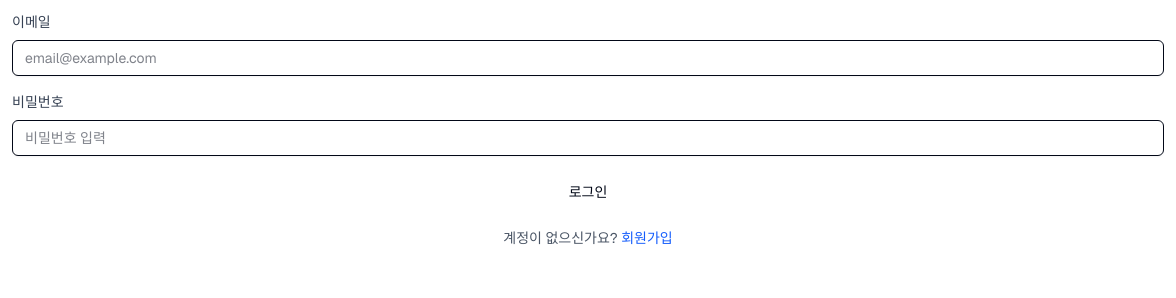
it: LoginForm › SPEC-AUTH-002 TAG-6: Rate Limit 에러 처리 › 429 응답 시 Rate Limit 에러 메시지를 표시한다
The image size is (1176, 298).
In the field labelled "이메일": (588, 58) [12,40,1164,76], type "test@example.com"
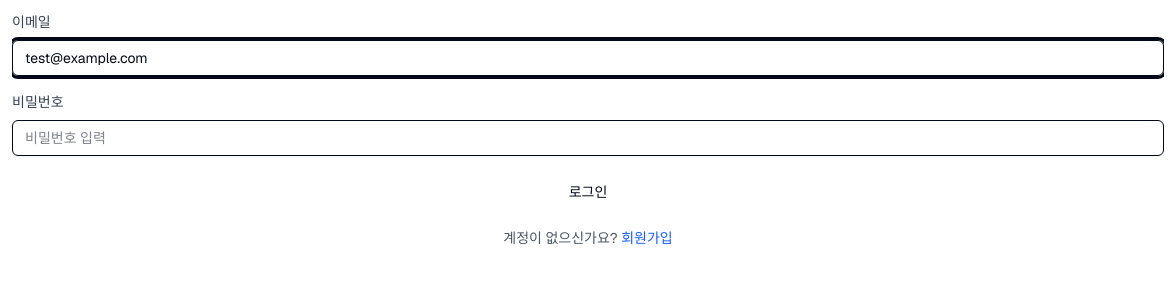
In the password field labelled "비밀번호": (588, 138) [12,120,1164,156], type "password123"
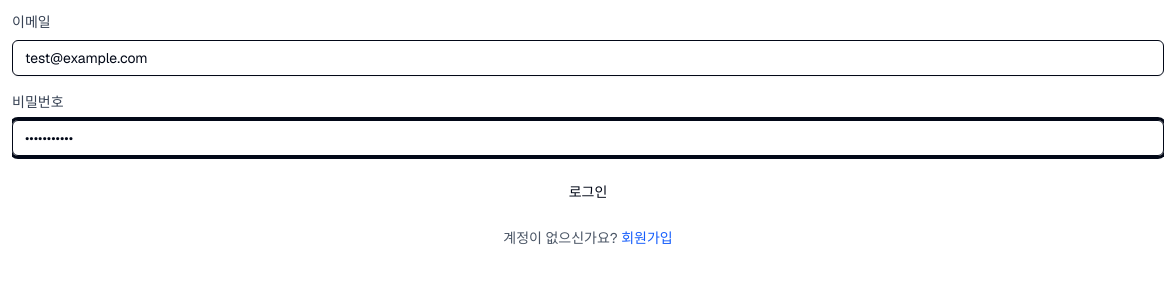
Click the button "로그인": (588, 192) [12,172,1164,212]
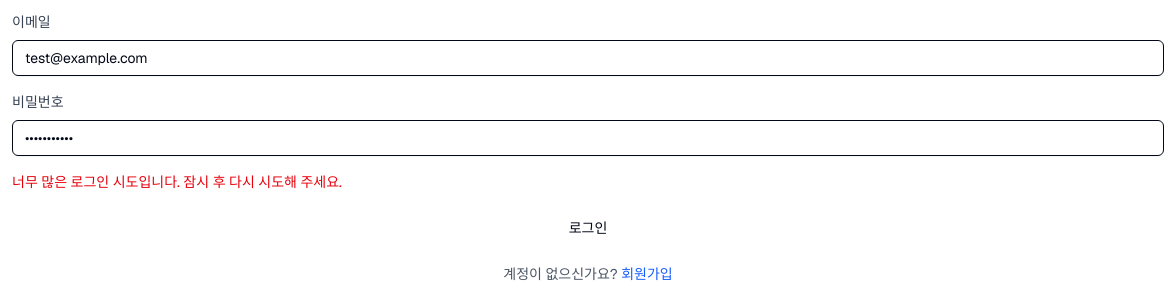
Now the text "너무 많은 로그인 시도입니다. 잠시 후 다시 시도해 주세요." is shown, box [12,173,342,191]
